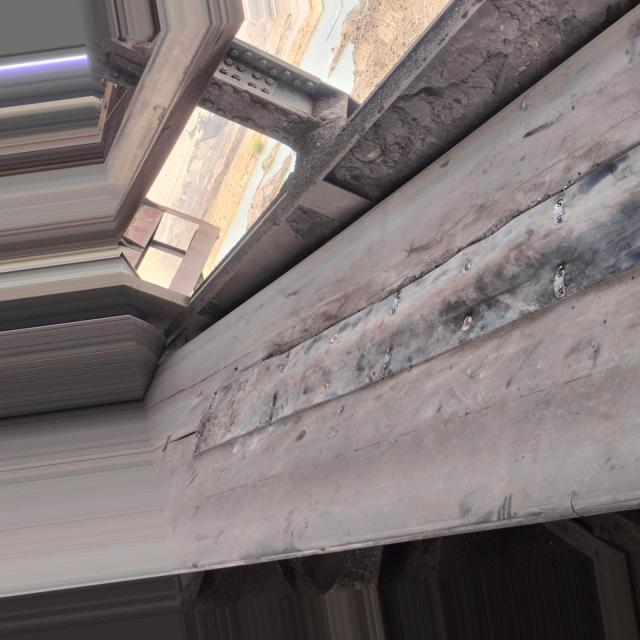patch work: (200, 140, 640, 460)
